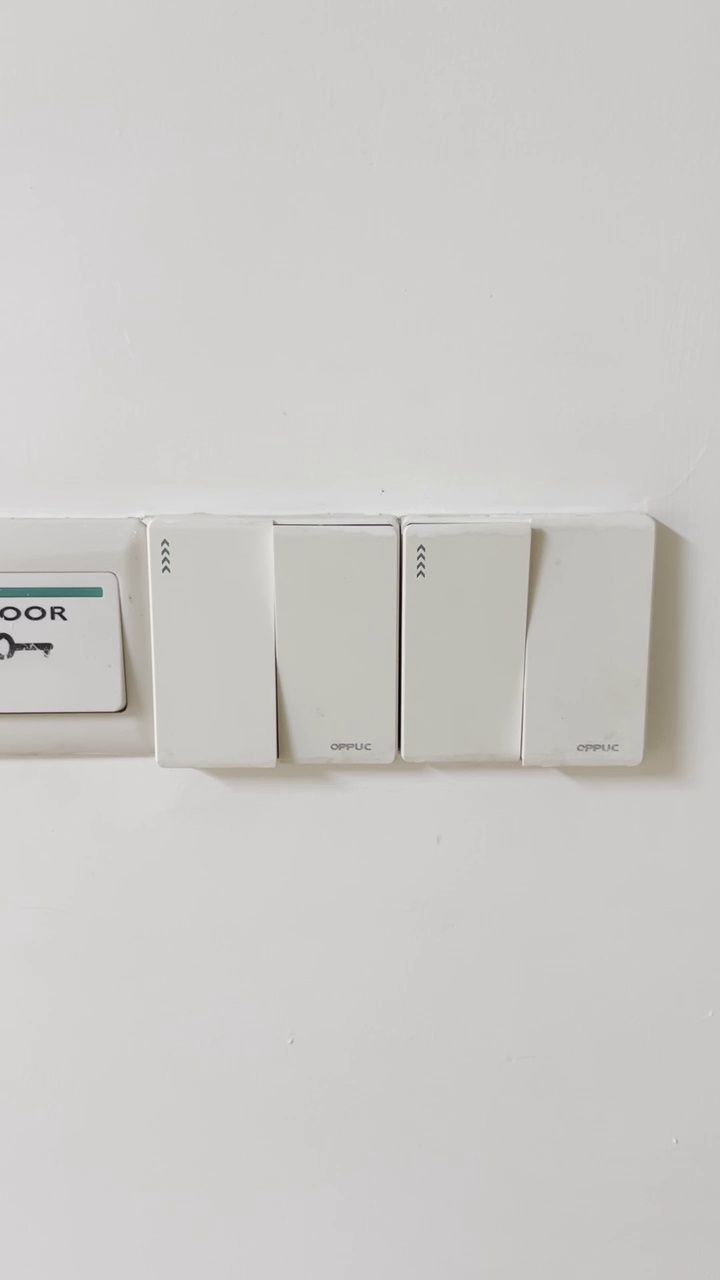button1: (152, 520, 274, 767), (525, 523, 647, 763), (275, 527, 398, 761), (405, 525, 524, 764)
